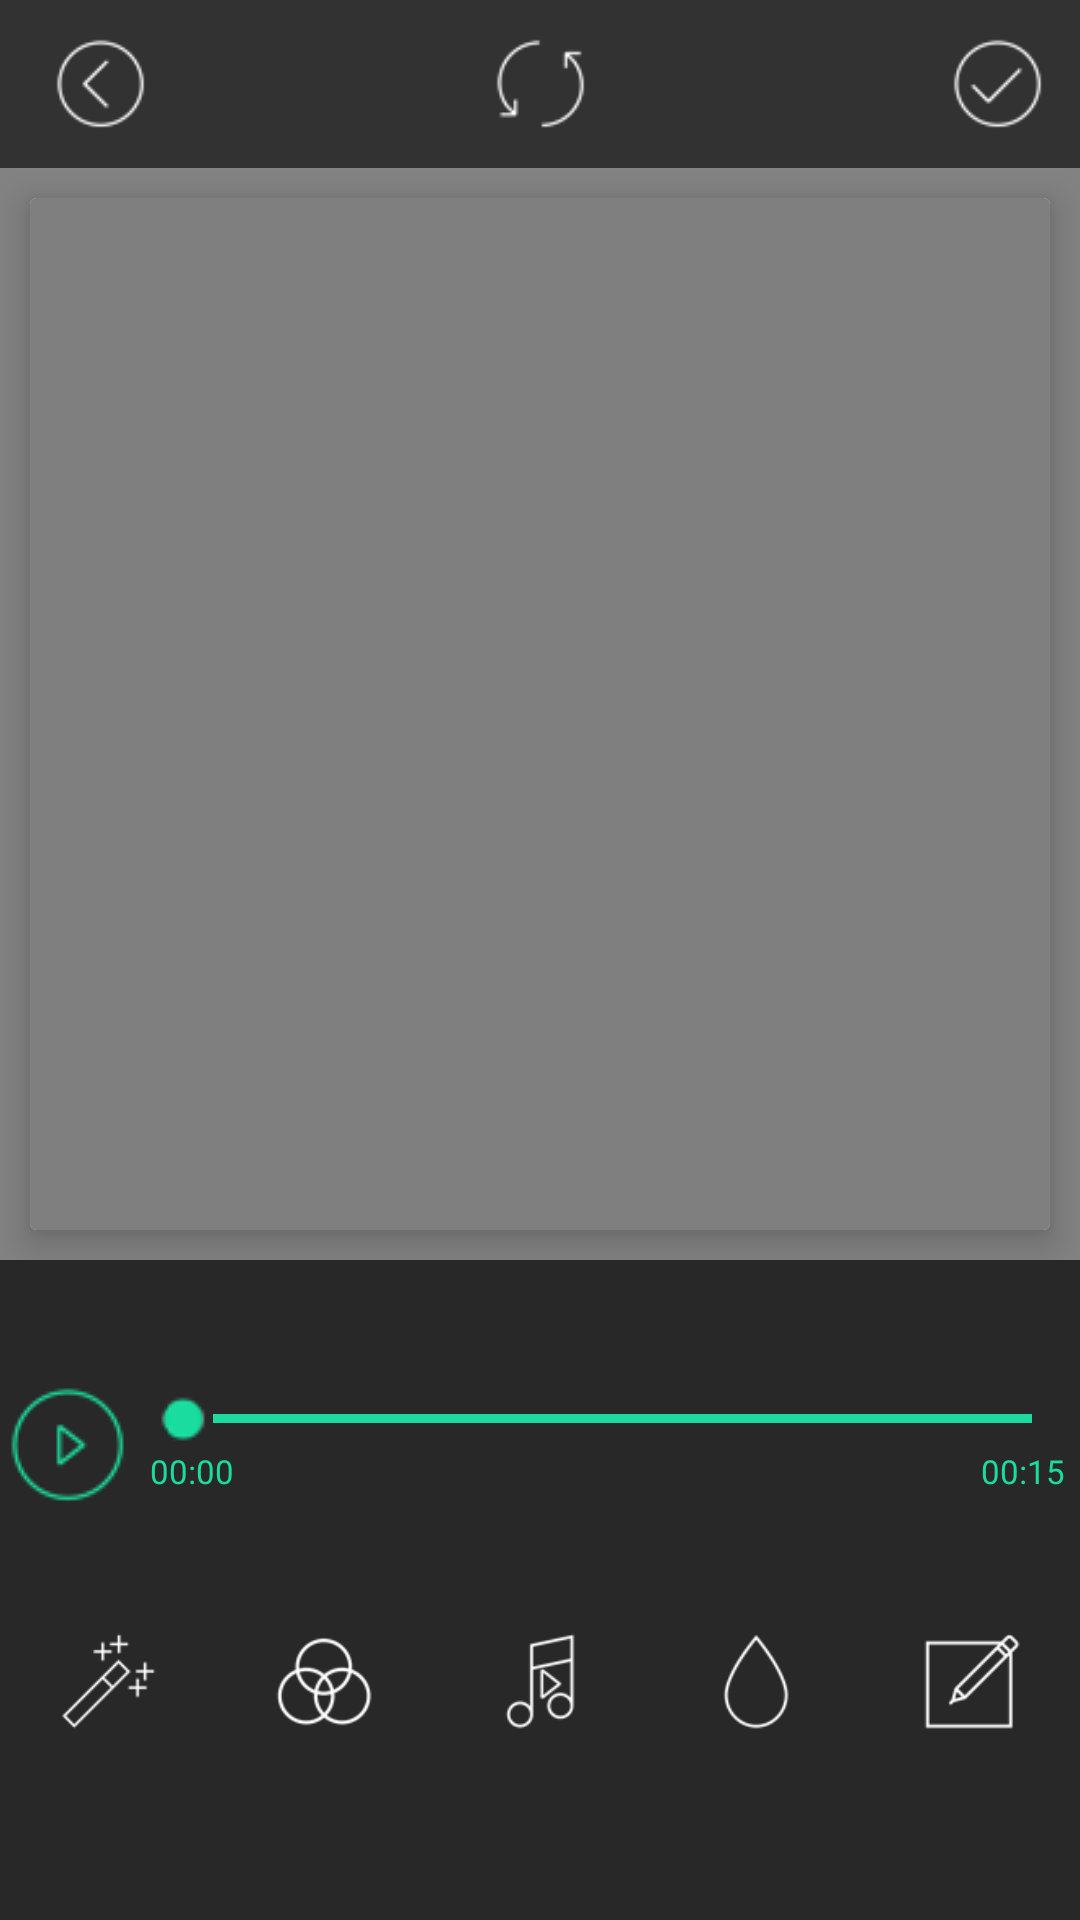

Icon bounding boxes for this 1080px×1920px phone screenshot, format (x1, y1, x2, y2):
blur: (724, 1635, 789, 1729)
effect: (62, 1634, 155, 1728)
reset: (497, 40, 584, 128)
